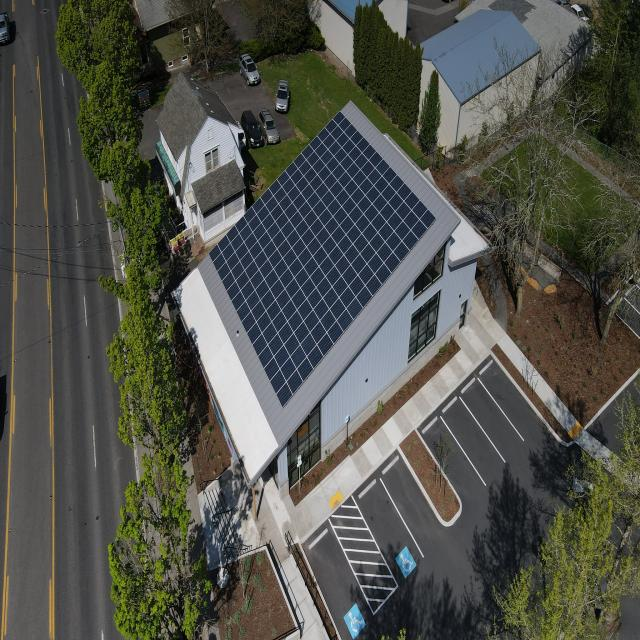clean-solar-panel: (211, 113, 434, 404)
